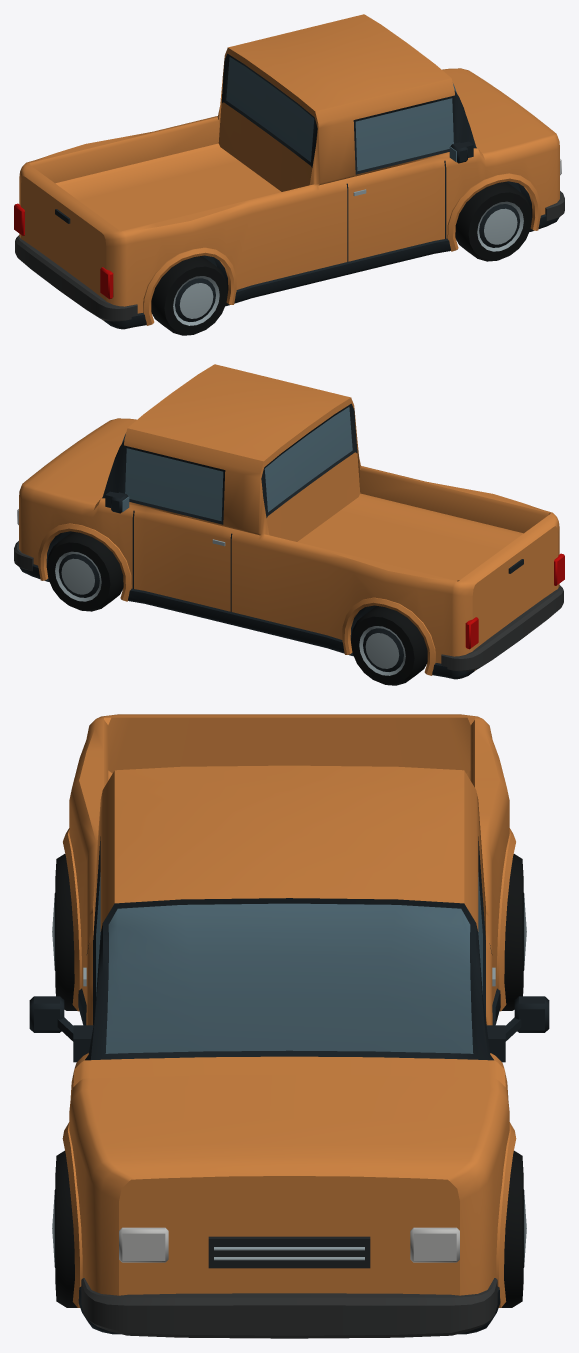
The model's file is cute-car-pickup-crafted.glb.
3 views of the same model, one above another, from view 1: azimuth 30°, elevation 25°; view 2: azimuth 150°, elevation 25°; view 3: azimuth 270°, elevation 25° (orthographic). The views are drawn at different scales.
Parts seen in each view (by area): view 1: tripo_node_69c7a569-d67b-4cc3-96f4-7cfcc3283a26; view 2: tripo_node_69c7a569-d67b-4cc3-96f4-7cfcc3283a26; view 3: tripo_node_69c7a569-d67b-4cc3-96f4-7cfcc3283a26.
Part boxes in pixels (bbox=[...]): tripo_node_69c7a569-d67b-4cc3-96f4-7cfcc3283a26: bbox=[14, 14, 564, 335]; tripo_node_69c7a569-d67b-4cc3-96f4-7cfcc3283a26: bbox=[14, 364, 564, 685]; tripo_node_69c7a569-d67b-4cc3-96f4-7cfcc3283a26: bbox=[29, 714, 549, 1338].
Bounding box in the file's own units: 1 × 0.3835 × 0.4814.
1 material, 1 textured.
